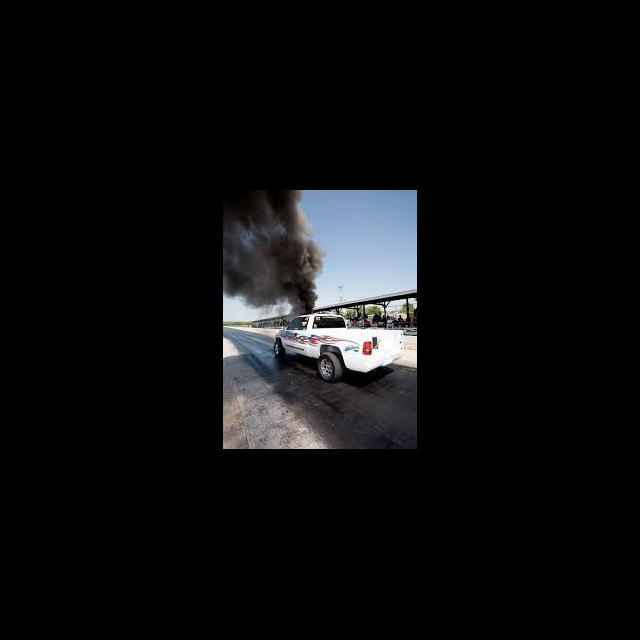Smoke: (223, 190, 328, 314)
